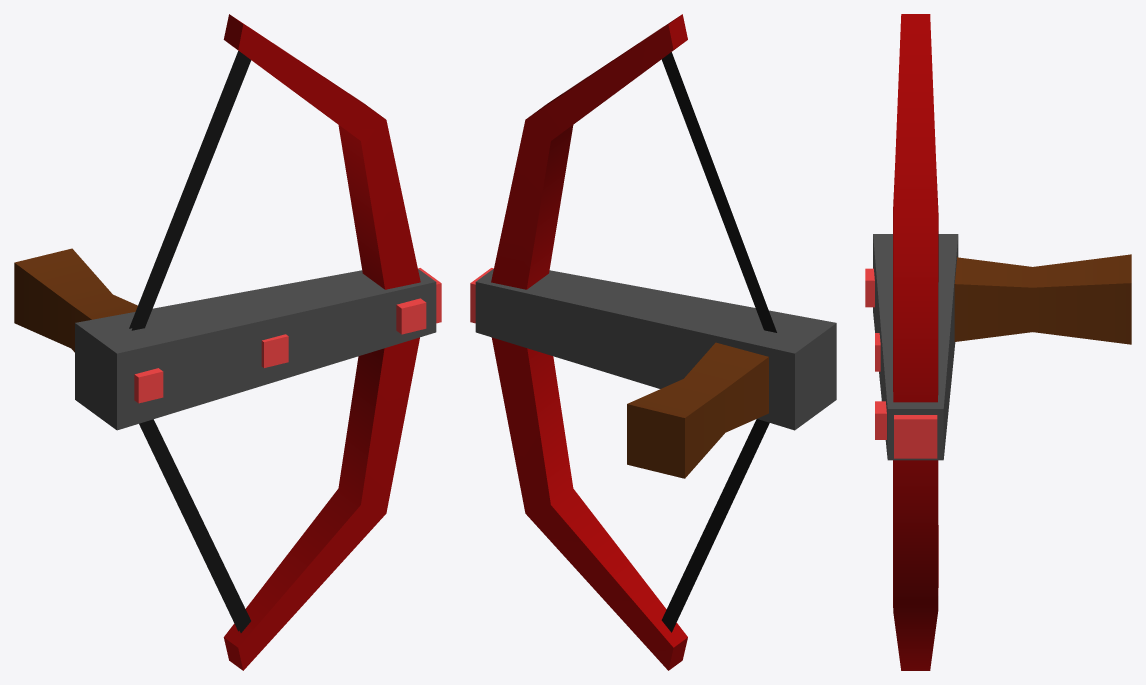
File: Crossbow 01.FBX
3 renders of one model, left to right at view 1: azimuth 30°, elevation 25°; view 2: azimuth 150°, elevation 25°; view 3: azimuth 270°, elevation 25°, orthographic.
Parts seen in each view (by area): view 1: Crossbow 01; view 2: Crossbow 01; view 3: Crossbow 01.
Boxes of the visible parts, x1,y1,x2,y2 form: Crossbow 01: (14,14,441,670); Crossbow 01: (470,14,836,670); Crossbow 01: (865,14,1131,670).
Bounding box in the file's own units: 27.23 × 50.21 × 18.45.
